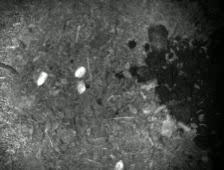corn: (72, 63, 88, 81), (35, 70, 50, 89), (73, 78, 88, 96), (111, 158, 128, 170)
